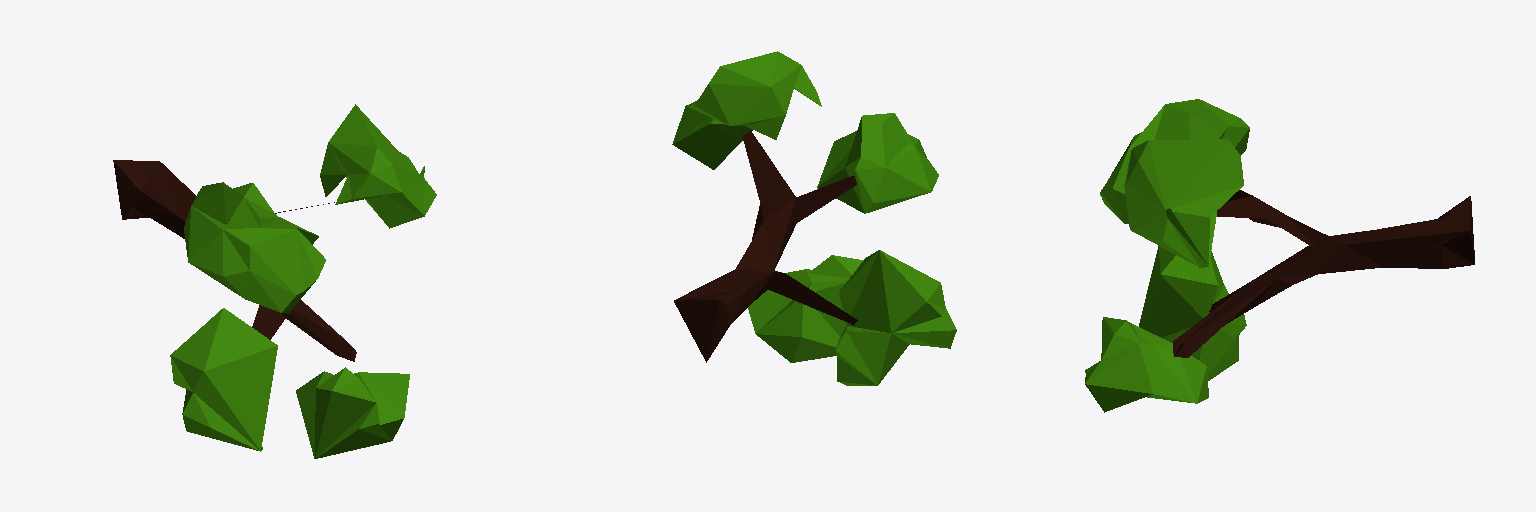
File: tree.obj
3 renders of one model, left to right at view 1: azimuth 30°, elevation 25°; view 2: azimuth 150°, elevation 25°; view 3: azimuth 270°, elevation 25°, orthographic.
Parts seen in each view (by area): view 1: model; view 2: model; view 3: model.
Boxes of the visible parts, x1=… form: model: x1=113, y1=104, x2=436, y2=458; model: x1=672, y1=51, x2=956, y2=385; model: x1=1085, y1=99, x2=1474, y2=412.
Bounding box in the file's own units: 4.46 × 4.96 × 5.74.